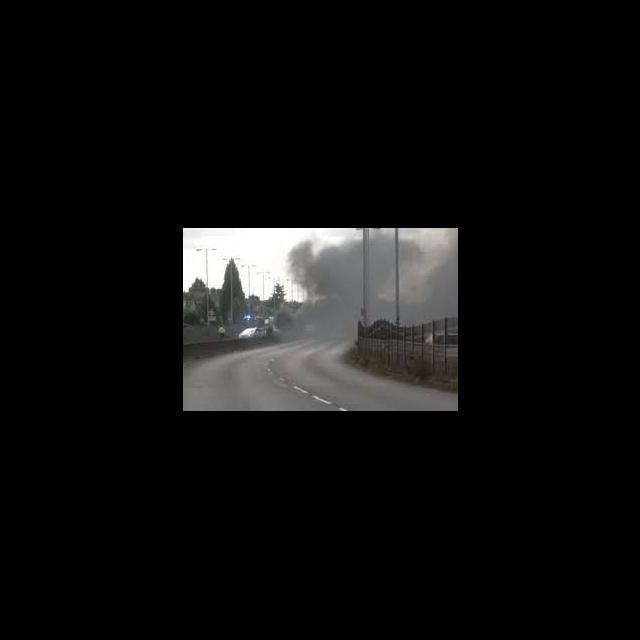Smoke: (275, 241, 361, 341), (399, 232, 457, 324), (370, 234, 394, 324)
